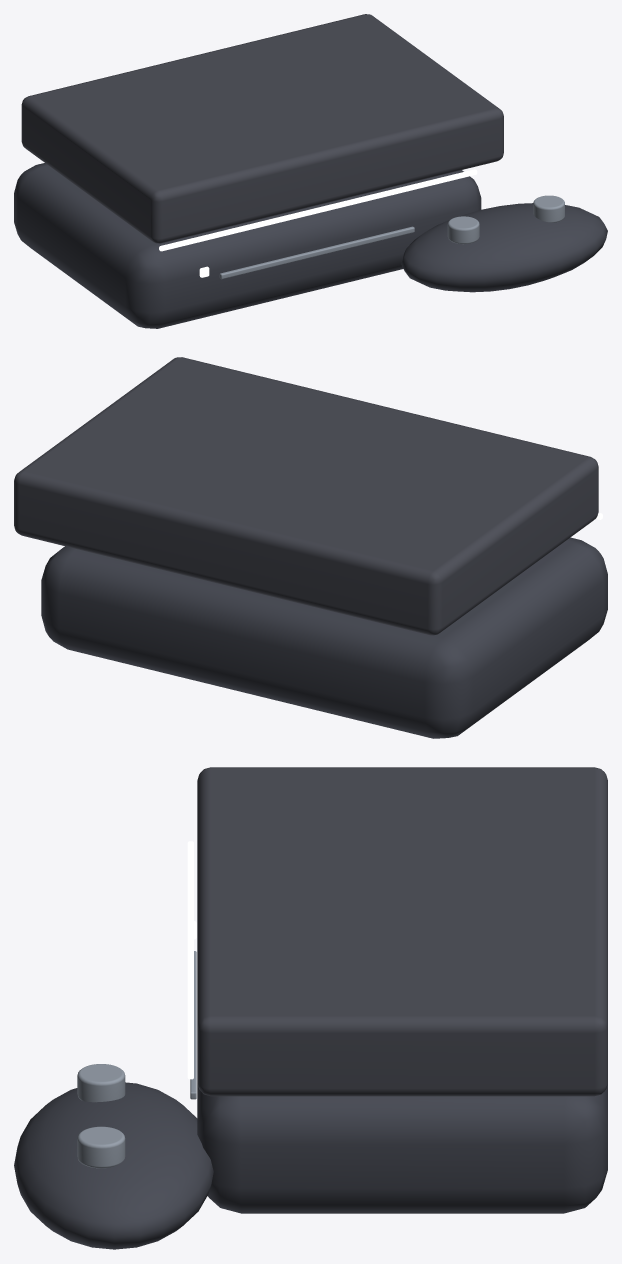
The model's file is consolePs4.glb.
3 views of the same model, one above another, from view 1: azimuth 30°, elevation 25°; view 2: azimuth 150°, elevation 25°; view 3: azimuth 270°, elevation 25° (orthographic). The views are drawn at different scales.
Parts seen in each view (by area): view 1: Upper console slab, Console housing, Controller, Blue power line, Disc slot, Controller stick, Controller stick.001; view 2: Upper console slab, Console housing; view 3: Upper console slab, Console housing, Controller, Controller stick.001, Controller stick, Blue power line.
Boxes of the visible parts, x1,y1,x2,y2 form: Upper console slab: [21, 14, 503, 243]; Console housing: [14, 163, 481, 328]; Controller: [401, 203, 607, 292]; Blue power line: [159, 169, 477, 251]; Disc slot: [219, 226, 414, 279]; Controller stick: [447, 216, 479, 244]; Controller stick.001: [533, 195, 564, 222]; Upper console slab: [14, 357, 598, 635]; Console housing: [41, 537, 607, 738]; Upper console slab: [197, 767, 607, 1096]; Console housing: [197, 1083, 607, 1213]; Controller: [14, 1082, 213, 1249]; Controller stick.001: [77, 1126, 125, 1168]; Controller stick: [77, 1064, 125, 1102]; Blue power line: [187, 841, 193, 1079].
Size of the model in its own units: 1.73 by 0.55 by 1.36.
